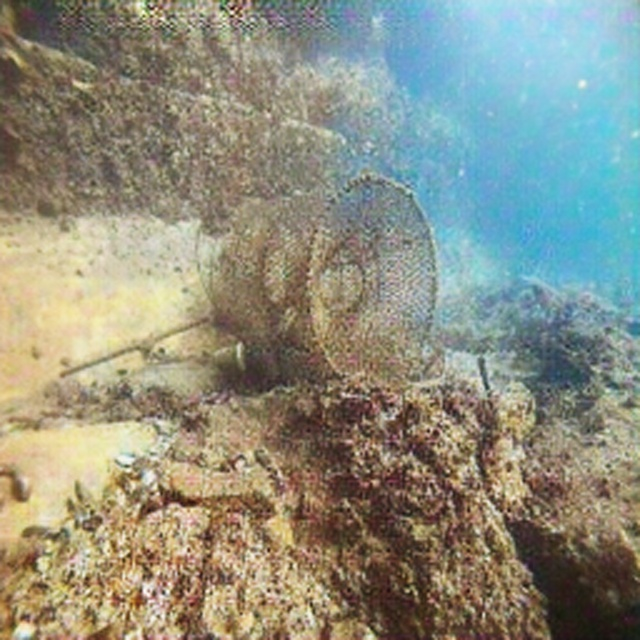mine: (209, 172, 437, 391)
